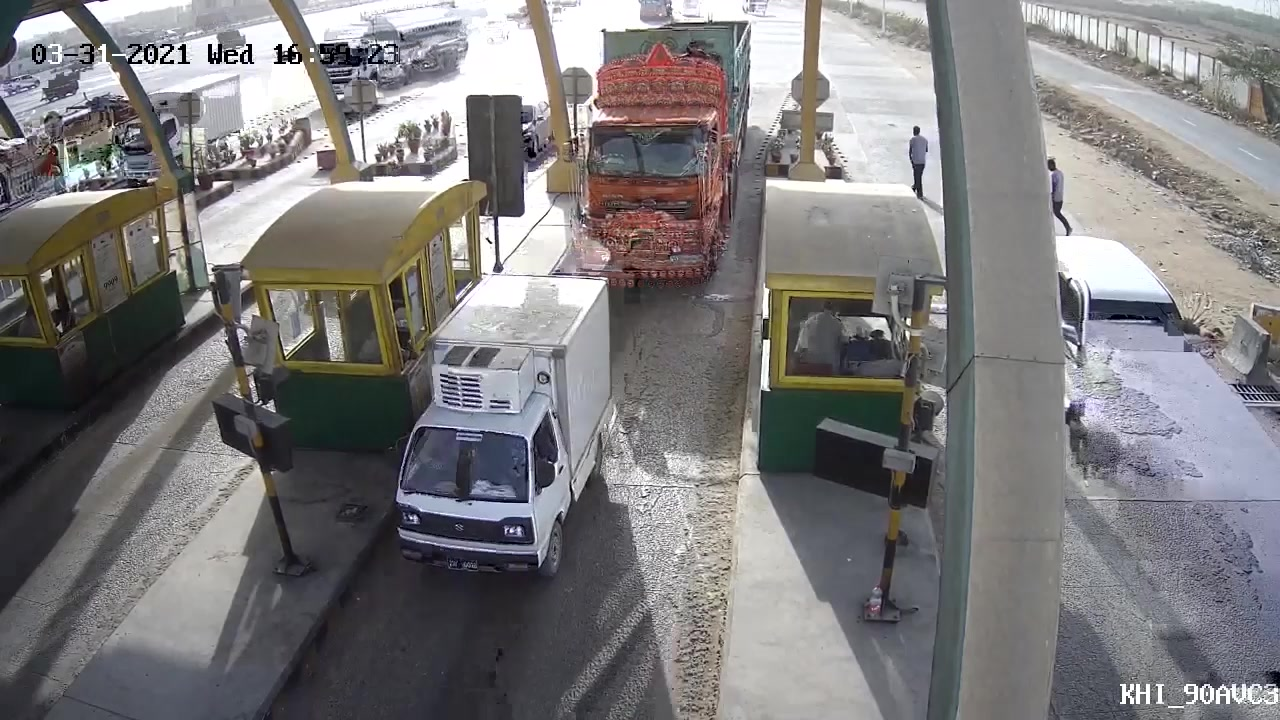F1: (377, 270, 617, 587)
F5: (568, 15, 758, 277)
